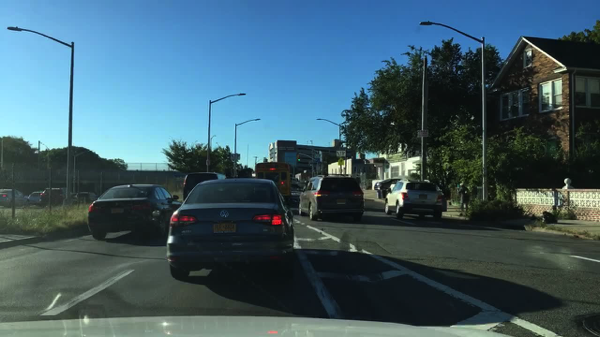bus: (255, 160, 292, 203)
car: (167, 178, 300, 279), (87, 184, 183, 240), (296, 174, 365, 222), (385, 179, 447, 221), (183, 172, 226, 202), (39, 188, 79, 209), (0, 189, 30, 208), (373, 178, 400, 193), (23, 191, 47, 207), (76, 191, 100, 204), (290, 177, 299, 188), (298, 180, 306, 190)
person: (456, 184, 470, 218)
traffic light: (296, 153, 301, 163)
traffic sign: (417, 130, 429, 138), (336, 150, 345, 157), (229, 154, 239, 160), (338, 157, 344, 166)
